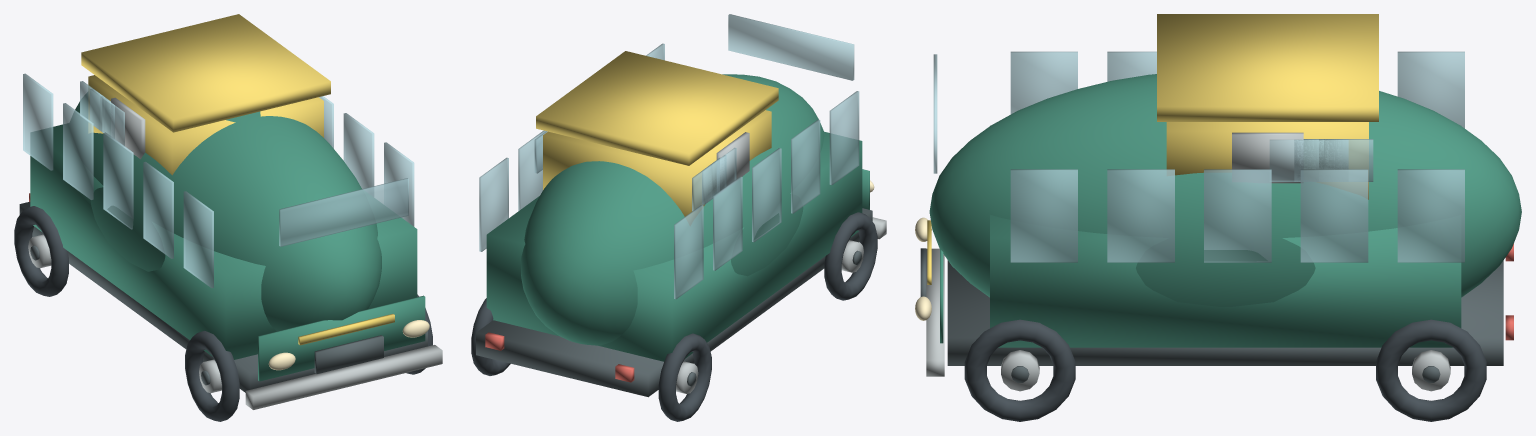
Rendered from bus.glb.
3 renders of one model, left to right at view 1: azimuth 30°, elevation 25°; view 2: azimuth 150°, elevation 25°; view 3: azimuth 270°, elevation 25°, orthographic. The views are drawn at different scales.
Parts seen in each view (by area): view 1: bus_mat_01_rounded_body, bus_mat_05_cabin_frame, bus_mat_07_side_glass_-1_0, bus_mat_02_front_bumper, bus_mat_08_wheel_0, bus_mat_00_underbody, bus_mat_03_front_lamp_-0.663; view 2: bus_mat_01_rounded_body, bus_mat_05_cabin_frame, bus_mat_07_side_glass_-1_0, bus_mat_00_underbody, bus_mat_08_wheel_0, bus_mat_02_front_bumper, bus_mat_04_tail_lamp_-0.663; view 3: bus_mat_01_rounded_body, bus_mat_07_side_glass_-1_0, bus_mat_05_cabin_frame, bus_mat_00_underbody, bus_mat_08_wheel_0, bus_mat_02_front_bumper, bus_mat_03_front_lamp_-0.663.
Part boxes in pixels (bbox=[...]): bus_mat_01_rounded_body: bbox=[30, 92, 425, 381]; bus_mat_05_cabin_frame: bbox=[81, 14, 394, 345]; bus_mat_07_side_glass_-1_0: bbox=[23, 73, 414, 288]; bus_mat_02_front_bumper: bbox=[28, 97, 442, 409]; bus_mat_08_wheel_0: bbox=[14, 206, 432, 421]; bus_mat_00_underbody: bbox=[19, 201, 427, 392]; bus_mat_03_front_lamp_-0.663: bbox=[268, 320, 429, 370]; bus_mat_01_rounded_body: bbox=[486, 74, 869, 361]; bus_mat_05_cabin_frame: bbox=[536, 51, 778, 225]; bus_mat_07_side_glass_-1_0: bbox=[479, 14, 859, 299]; bus_mat_00_underbody: bbox=[476, 208, 872, 397]; bus_mat_08_wheel_0: bbox=[471, 212, 877, 421]; bus_mat_02_front_bumper: bbox=[676, 132, 886, 393]; bus_mat_04_tail_lamp_-0.663: bbox=[485, 332, 634, 382]; bus_mat_01_rounded_body: bbox=[929, 74, 1521, 347]; bus_mat_07_side_glass_-1_0: bbox=[933, 51, 1464, 262]; bus_mat_05_cabin_frame: bbox=[927, 14, 1378, 284]; bus_mat_00_underbody: bbox=[920, 248, 1503, 382]; bus_mat_08_wheel_0: bbox=[964, 319, 1486, 421]; bus_mat_02_front_bumper: bbox=[926, 132, 1450, 391]; bus_mat_03_front_lamp_-0.663: bbox=[915, 217, 931, 320].
Size of the model in its own units: 2.07 by 2.39 by 4.32.
